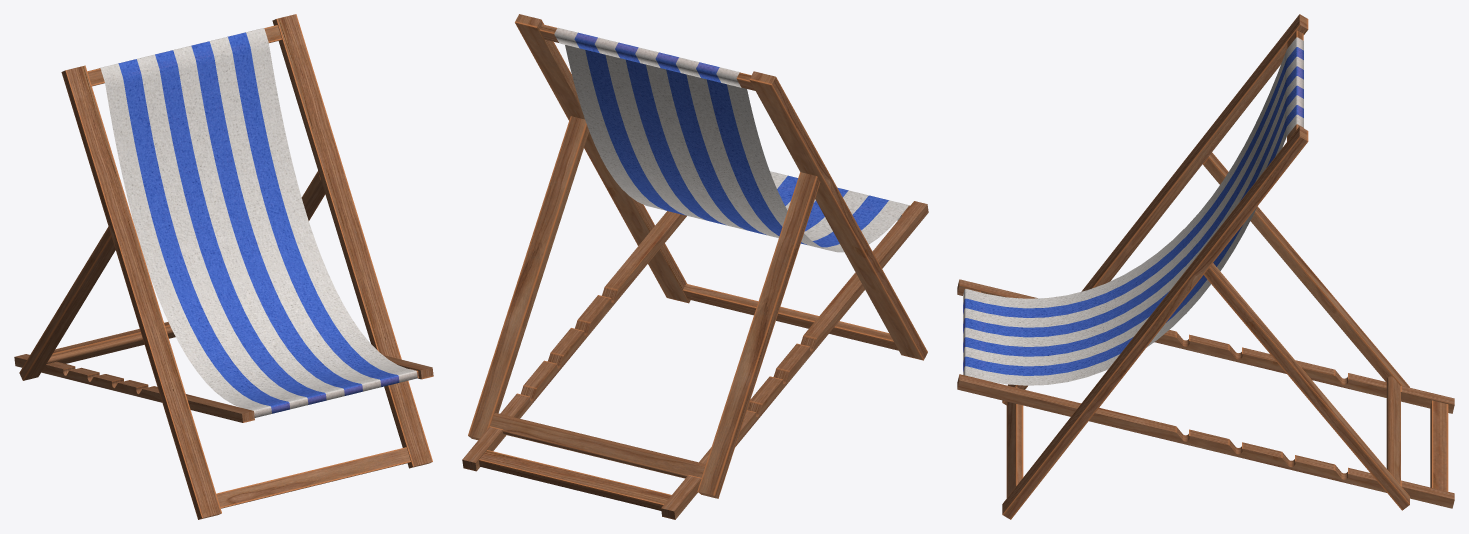
File: chair.glb
3 renders of one model, left to right at view 1: azimuth 30°, elevation 25°; view 2: azimuth 150°, elevation 25°; view 3: azimuth 270°, elevation 25°, orthographic. The views are drawn at different scales.
Parts seen in each view (by area): view 1: Plane, Cube.001, Cube.006, Cube.004, Cube, Cylinder, Cube.005; view 2: Plane, Cube.006, Cube.001, Cube.004, Cylinder, Cube.005, Cube; view 3: Plane, Cube.001, Cube.004, Cube.006, Cube.005, Cube, Cylinder.
Part boxes in pixels (left/top/right/bottom): Plane: left=99, top=28, right=417, bottom=417; Cube.001: left=61, top=14, right=432, bottom=519; Cube.006: left=19, top=171, right=325, bottom=380; Cube.004: left=14, top=354, right=433, bottom=422; Cube: left=216, top=447, right=410, bottom=508; Cylinder: left=46, top=327, right=175, bottom=363; Cube.005: left=51, top=322, right=170, bottom=355; Plane: left=554, top=27, right=909, bottom=252; Cube.006: left=468, top=116, right=820, bottom=498; Cube.001: left=515, top=14, right=927, bottom=360; Cube.004: left=462, top=201, right=928, bottom=519; Cylinder: left=490, top=413, right=705, bottom=478; Cube.005: left=479, top=450, right=671, bottom=510; Cube: left=683, top=283, right=898, bottom=350; Plane: left=963, top=37, right=1303, bottom=385; Cube.001: left=1002, top=14, right=1308, bottom=519; Cube.004: left=957, top=279, right=1454, bottom=508; Cube.006: left=1202, top=152, right=1409, bottom=510; Cube.005: left=1430, top=400, right=1448, bottom=491; Cube: left=1006, top=387, right=1023, bottom=497; Cylinder: left=1386, top=376, right=1400, bottom=484.
Size of the model in its own units: 2.67 by 3.9 by 4.58.
1 material, 1 textured.
